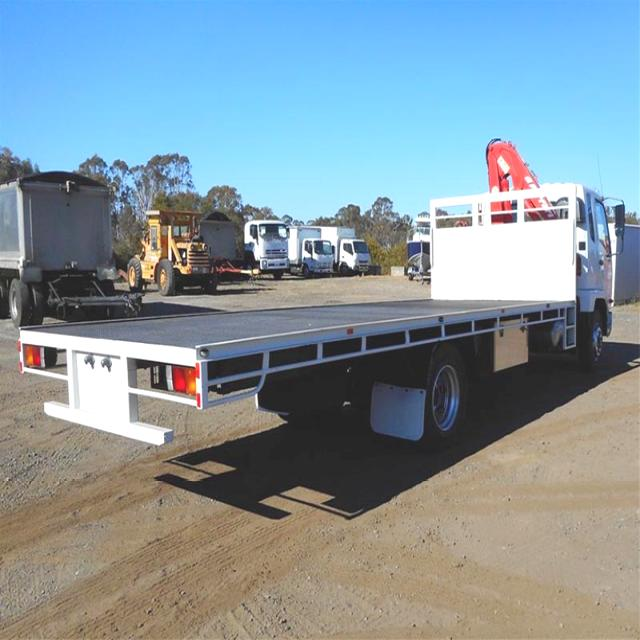truck: (18, 136, 615, 489)
